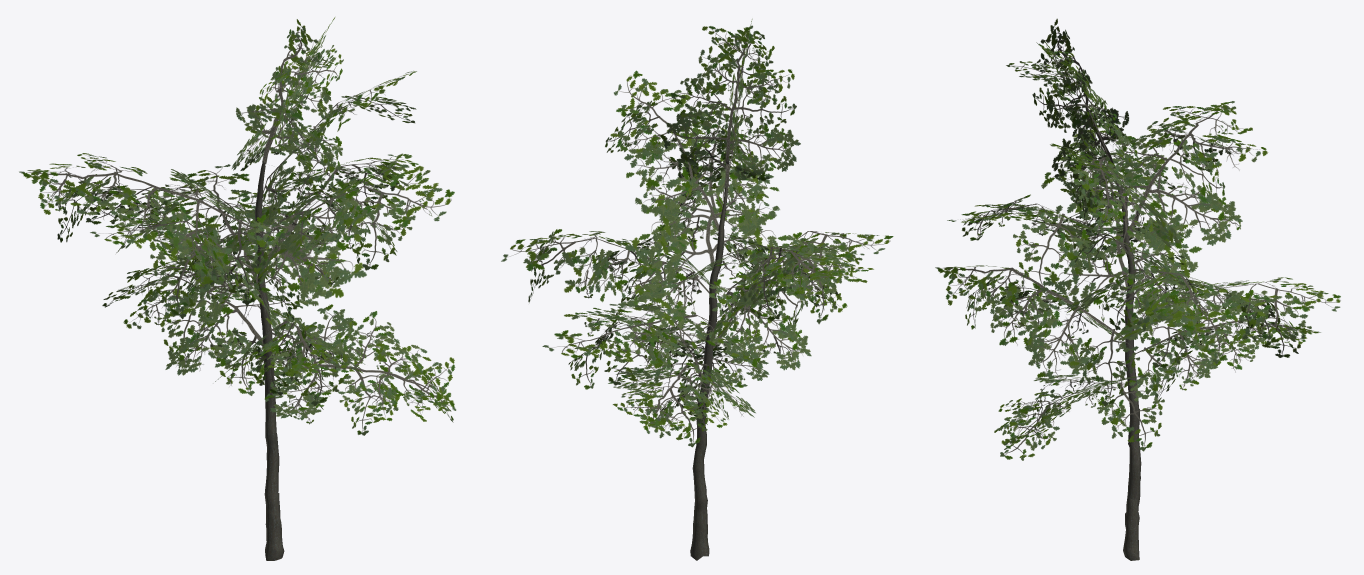
File: ENV_Oak_Small_001_LOD0_20261021.glb
3 renders of one model, left to right at view 1: azimuth 30°, elevation 25°; view 2: azimuth 150°, elevation 25°; view 3: azimuth 270°, elevation 25°, orthographic. The views are drawn at different scales.
Parts seen in each view (by area): view 1: Small_oak_tree__001_LOD0; view 2: Small_oak_tree__001_LOD0; view 3: Small_oak_tree__001_LOD0.
Part boxes in pixels (bbox=[...]): Small_oak_tree__001_LOD0: bbox=[19, 17, 456, 560]; Small_oak_tree__001_LOD0: bbox=[501, 19, 893, 560]; Small_oak_tree__001_LOD0: bbox=[935, 18, 1340, 560].
Bounding box in the file's own units: 4.06 × 5.66 × 4.
Materials: 2 (2 with a texture image).
